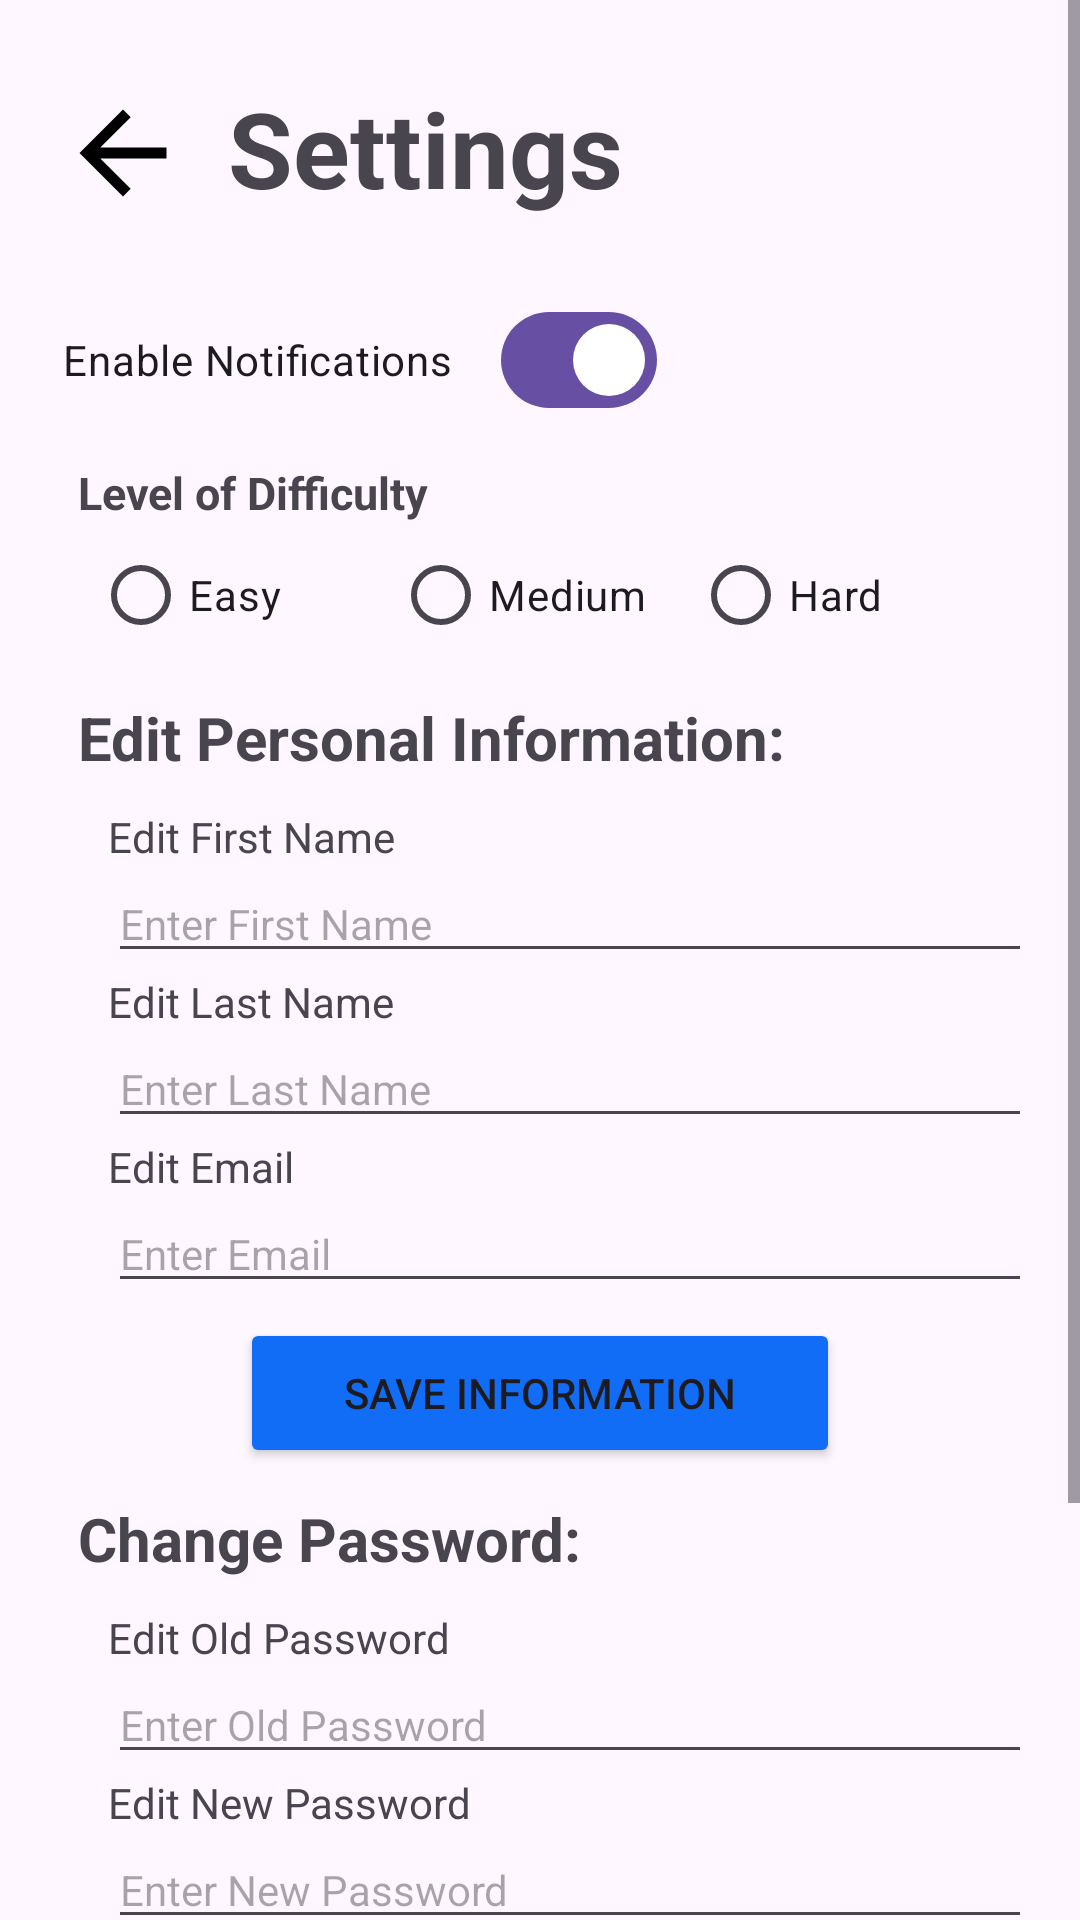

Point at icon controls on the screen. Image size 1080×1920, points as (x=x, y=y).
back: (x=123, y=153)
